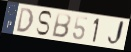1: (92, 18, 100, 44)
5: (72, 15, 89, 41)
B: (50, 12, 72, 40)
D: (16, 7, 34, 34)
J: (106, 19, 126, 48)
S: (35, 10, 54, 37)
